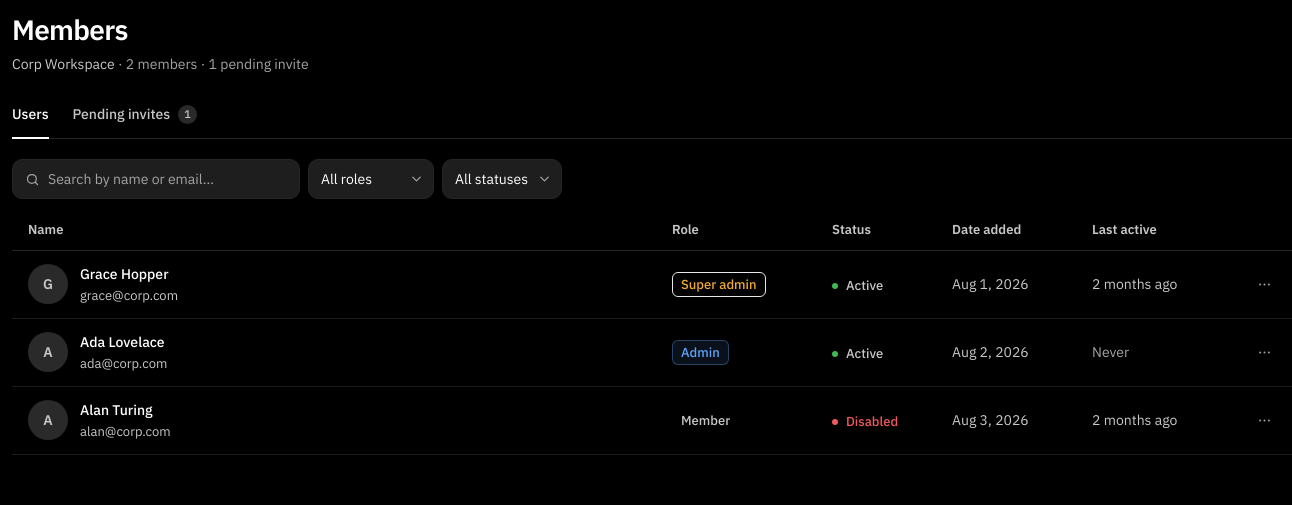
Test: the Members table › hides invite and management affordances without the capabilities
Expected: the text "Ada Lovelace" is shown, [80,332,167,354]
# The row menu still exists (View), but shows no management items.
Click the button named "Actions for Alan Turing" at {"x": 1264, "y": 420}, box [1248,404,1280,436]
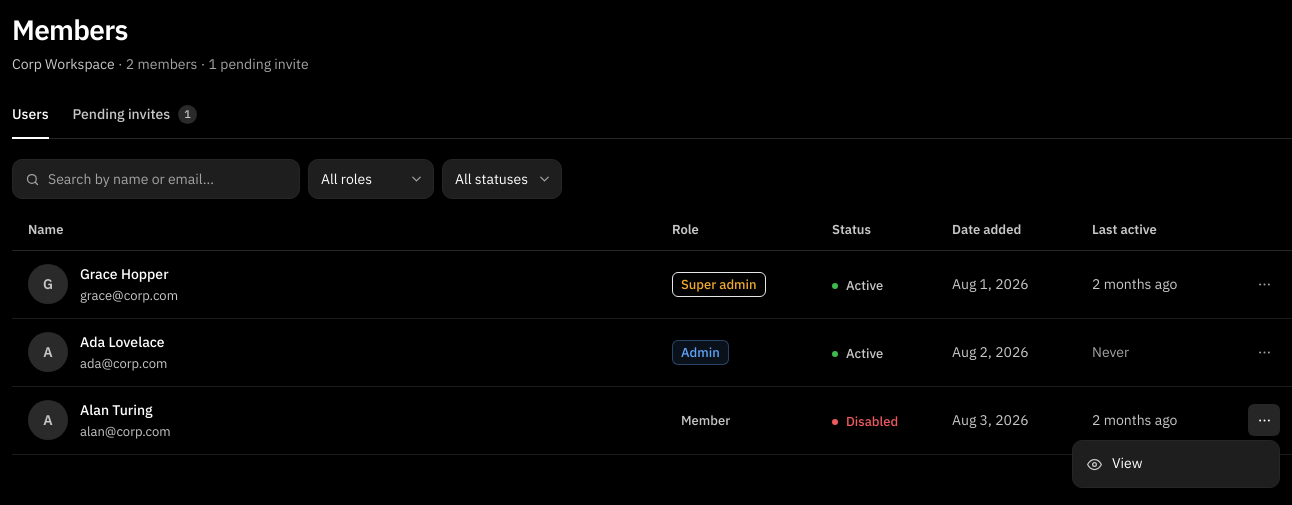
Expected: the menu item "View" is shown, [1077,445,1275,483]
